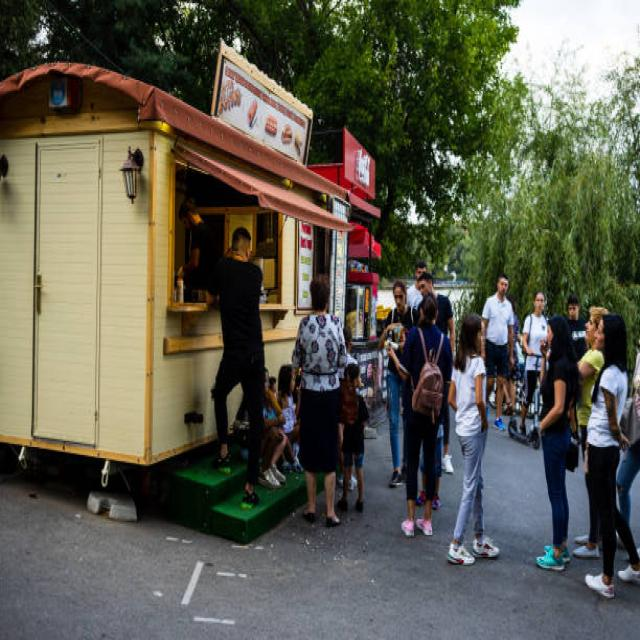Emperan: (0, 58, 393, 557)
